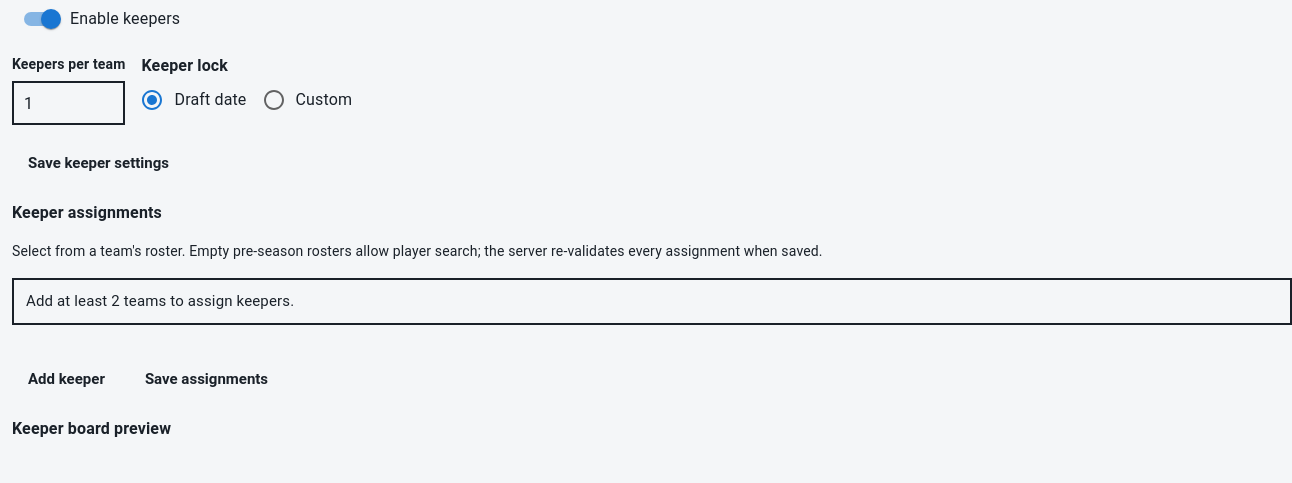
bounds the keeper count by the draft roster size, not the IR-inclusive roster limit
Replace the text in the number field labelled "Keepers per team" with "4" at (69, 103), box 12,81 -> 126,125
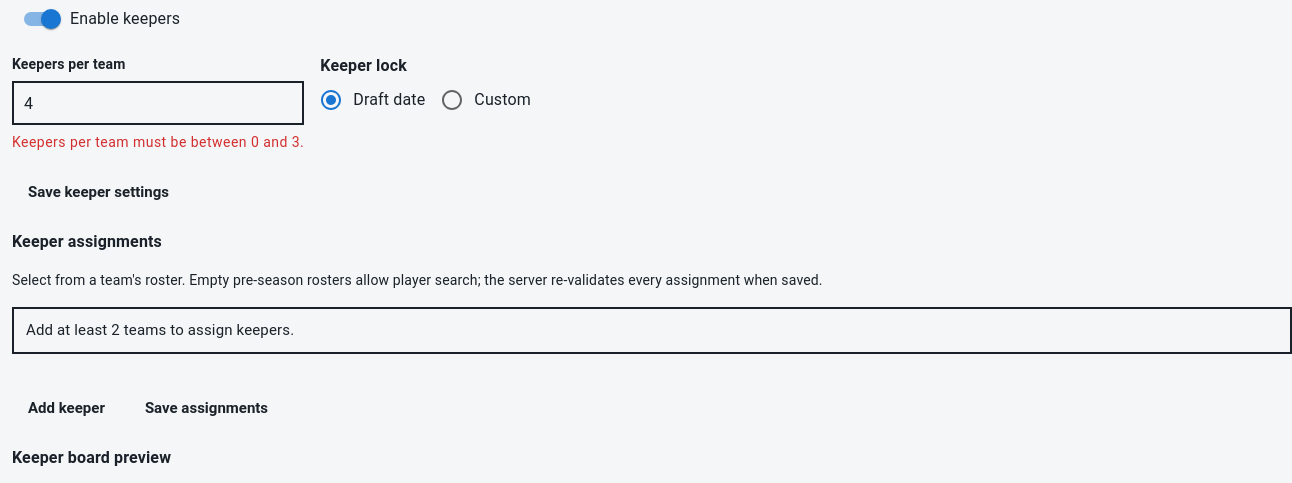
Expected: the text "Keepers per team must be between 0 and 3." is shown, 12,131 -> 304,154
